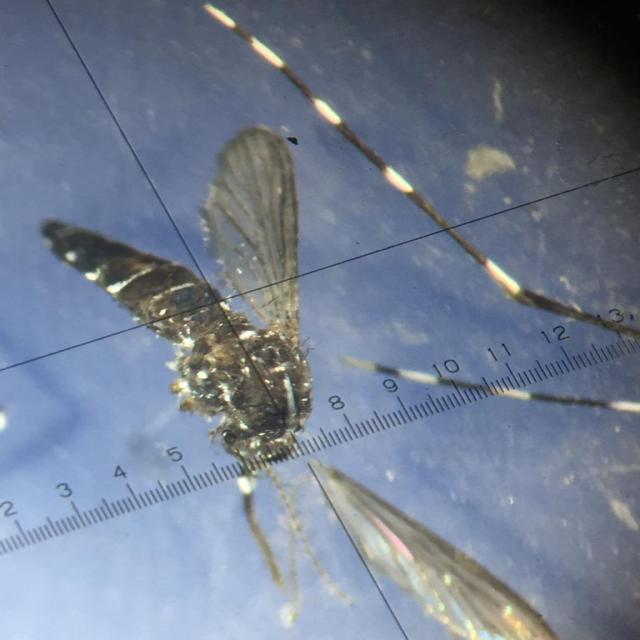albopictus: (16, 32, 630, 578)
